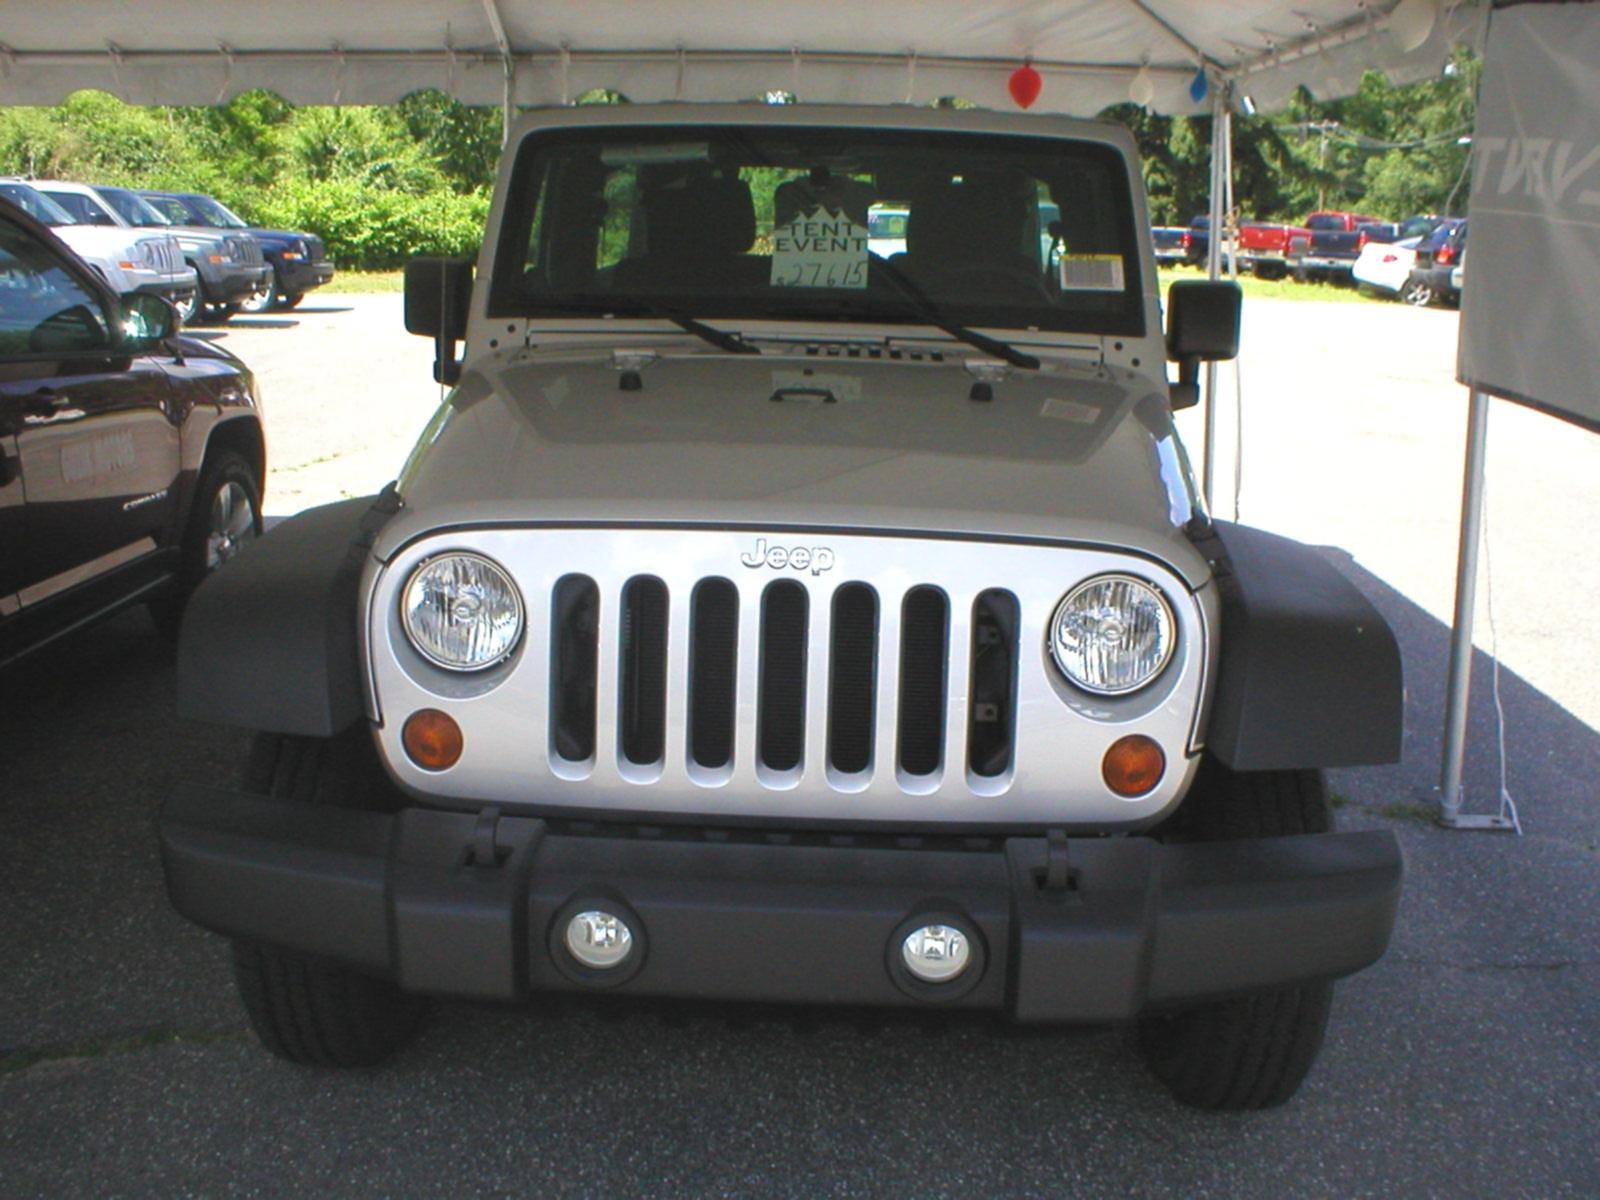jeep: (700, 503, 873, 606)
